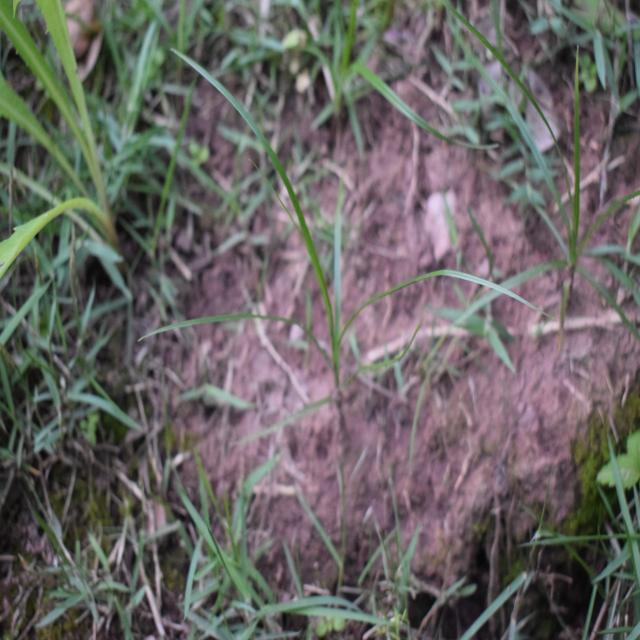sedge: (188, 87, 542, 528), (465, 31, 640, 362)
